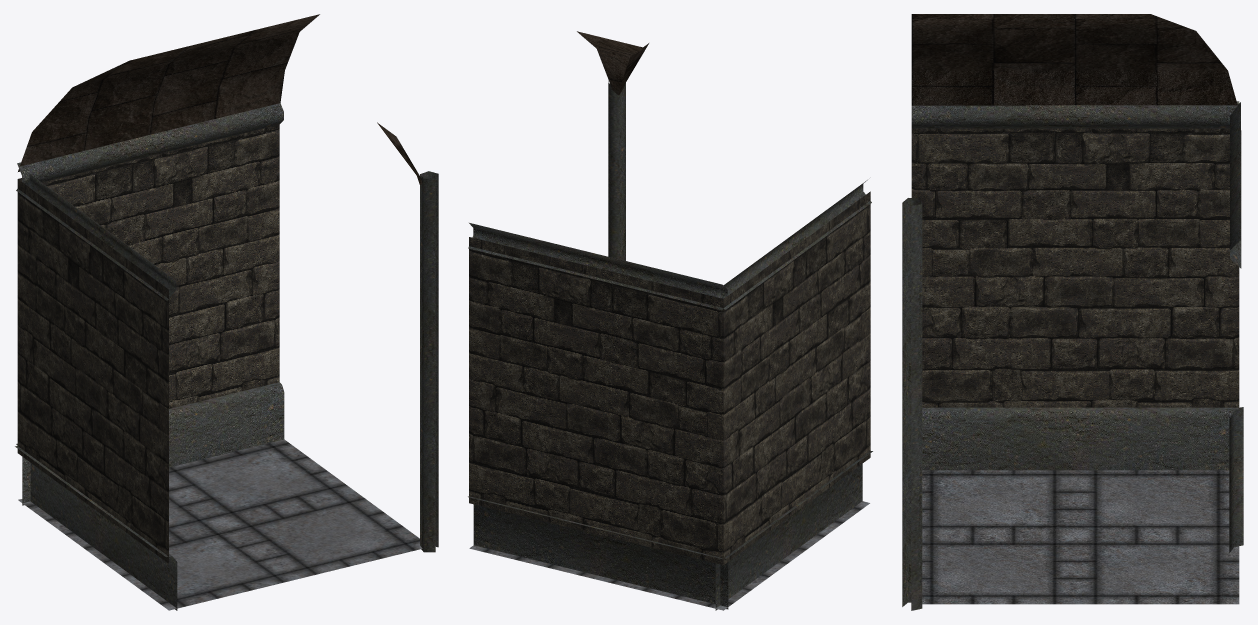
Rendered from Turn.fbx.
3 views of the same model, side by side, from view 1: azimuth 30°, elevation 25°; view 2: azimuth 150°, elevation 25°; view 3: azimuth 270°, elevation 25° (orthographic). The views are drawn at different scales.
Visible parts, largest first — view 1: Plane_007, Plane_003, Plane, Plane_008, Plane_004, Cylinder, Plane_006, Plane_001, Plane_005; view 2: Plane_003, Plane_007, Plane_004, Plane_006, Plane_001, Cylinder, Plane_005, Plane, Plane_008; view 3: Plane_007, Plane, Plane_008, Plane_006, Cylinder, Plane_005, Plane_004, Plane_001.
Part boxes in pixels (x1=…): Plane_007: x1=17, y1=179, x2=168, y2=563; Plane_003: x1=18, y1=124, x2=279, y2=408; Plane: x1=18, y1=439, x2=422, y2=610; Plane_008: x1=18, y1=14, x2=422, y2=184; Plane_004: x1=16, y1=382, x2=284, y2=505; Cylinder: x1=420, y1=171, x2=438, y2=552; Plane_006: x1=15, y1=446, x2=177, y2=610; Plane_001: x1=17, y1=103, x2=283, y2=184; Plane_005: x1=16, y1=167, x2=176, y2=301; Plane_003: x1=469, y1=237, x2=723, y2=565; Plane_007: x1=723, y1=191, x2=870, y2=564; Plane_004: x1=468, y1=496, x2=728, y2=609; Plane_006: x1=715, y1=451, x2=872, y2=610; Plane_001: x1=468, y1=223, x2=727, y2=310; Cylinder: x1=608, y1=80, x2=625, y2=260; Plane_005: x1=716, y1=180, x2=871, y2=309; Plane: x1=469, y1=501, x2=869, y2=610; Plane_008: x1=577, y1=31, x2=648, y2=95; Plane_007: x1=911, y1=128, x2=1239, y2=407; Plane: x1=922, y1=470, x2=1239, y2=604; Plane_008: x1=911, y1=14, x2=1237, y2=105; Plane_006: x1=922, y1=407, x2=1238, y2=470; Cylinder: x1=902, y1=198, x2=922, y2=610; Plane_005: x1=911, y1=101, x2=1239, y2=128; Plane_004: x1=1229, y1=407, x2=1243, y2=552; Plane_001: x1=1230, y1=102, x2=1241, y2=268.
Size of the model in its own units: 2.08 by 3.46 by 2.08.
